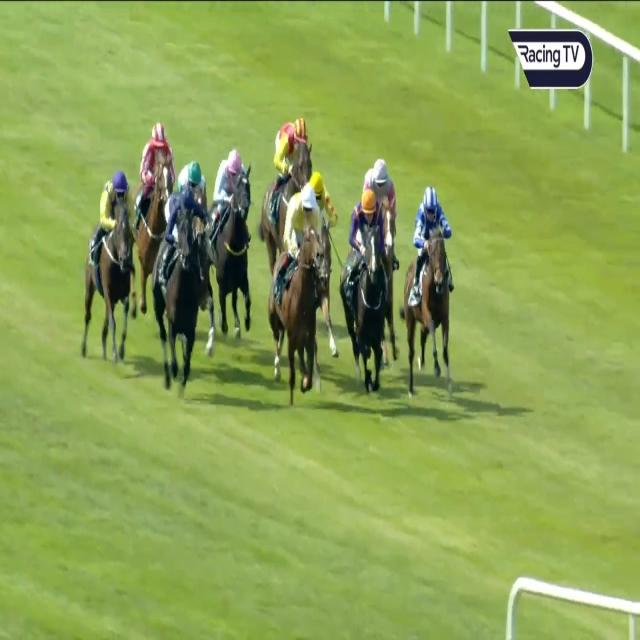horses-racing: (81, 170, 136, 365), (151, 187, 204, 389), (271, 184, 317, 401), (205, 144, 255, 335), (347, 191, 390, 401), (406, 190, 449, 394), (262, 115, 314, 248), (136, 108, 180, 262), (355, 155, 400, 222), (304, 172, 341, 223), (178, 160, 209, 193)
